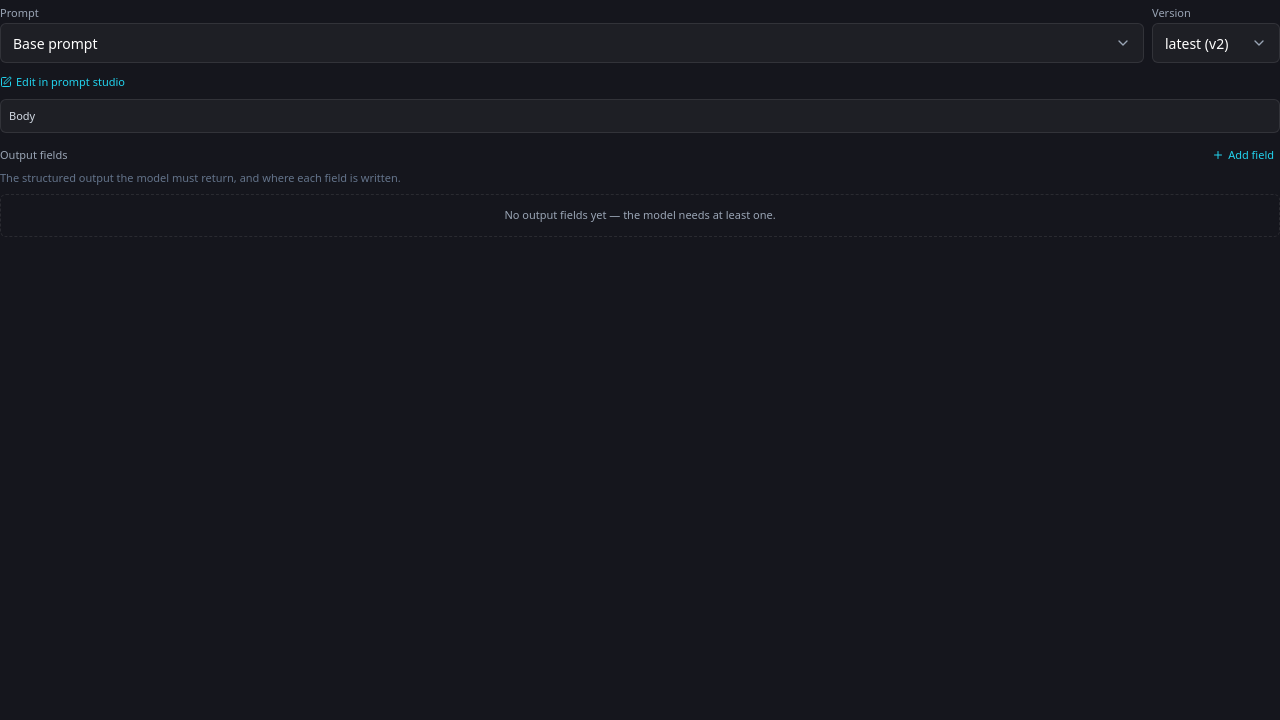
editing a node's prompt in the studio overlay › repoints the node at the fork instead of leaving it on the original
Click the button "Edit in prompt studio" at (62, 82), box [0,74,125,90]
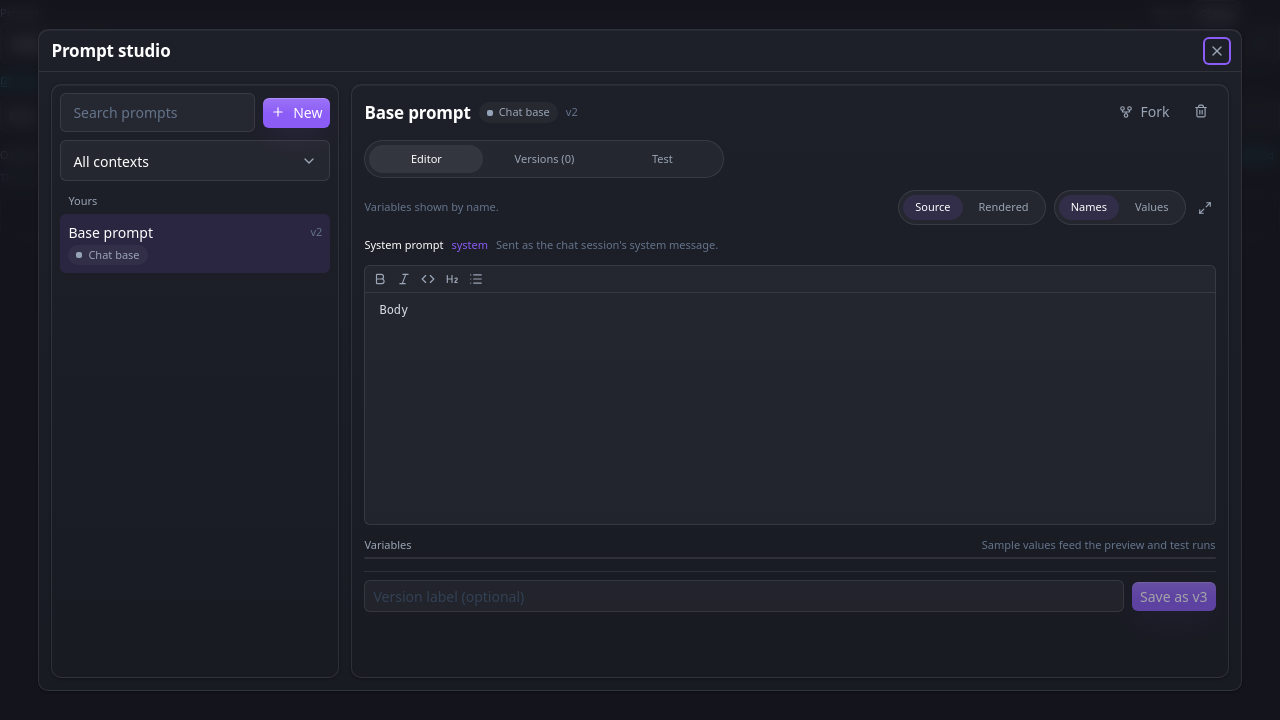
Expected: the dialog "Prompt studio" is shown
Click the button "Fork" at (1144, 113), box [1111,97,1178,128]
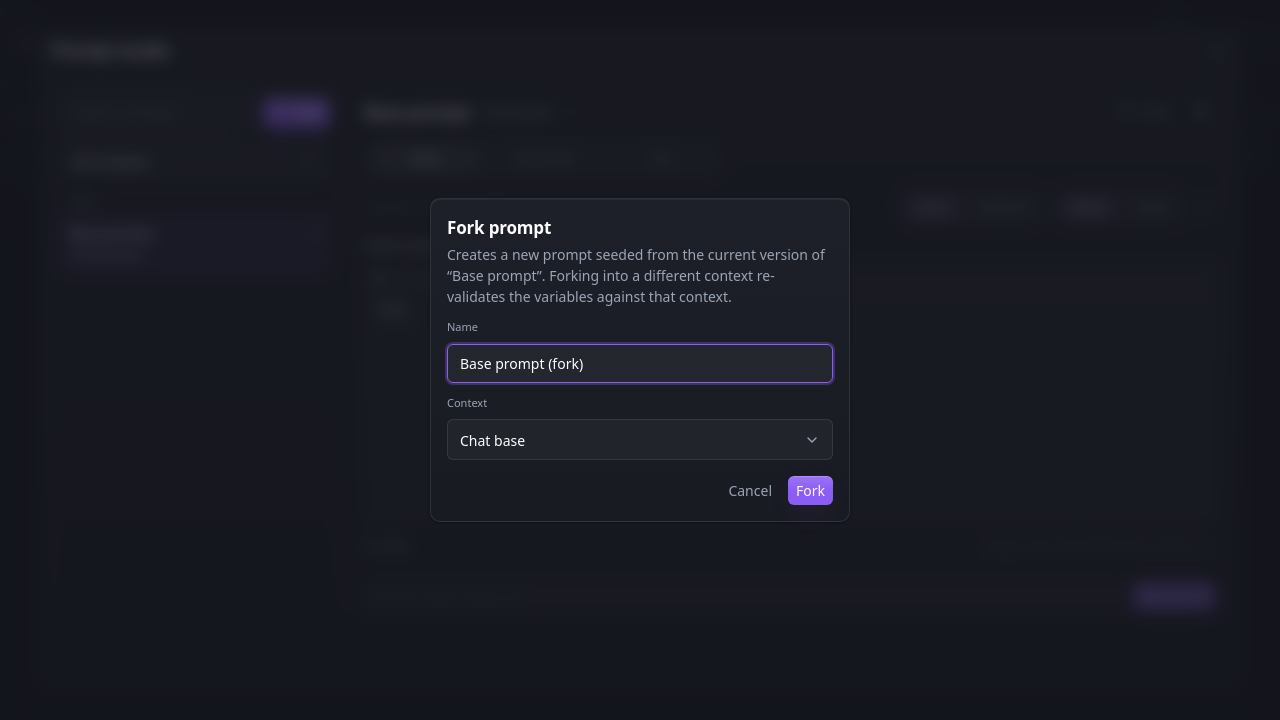
Click the button "Fork" at (810, 491), box [788,476,833,505]
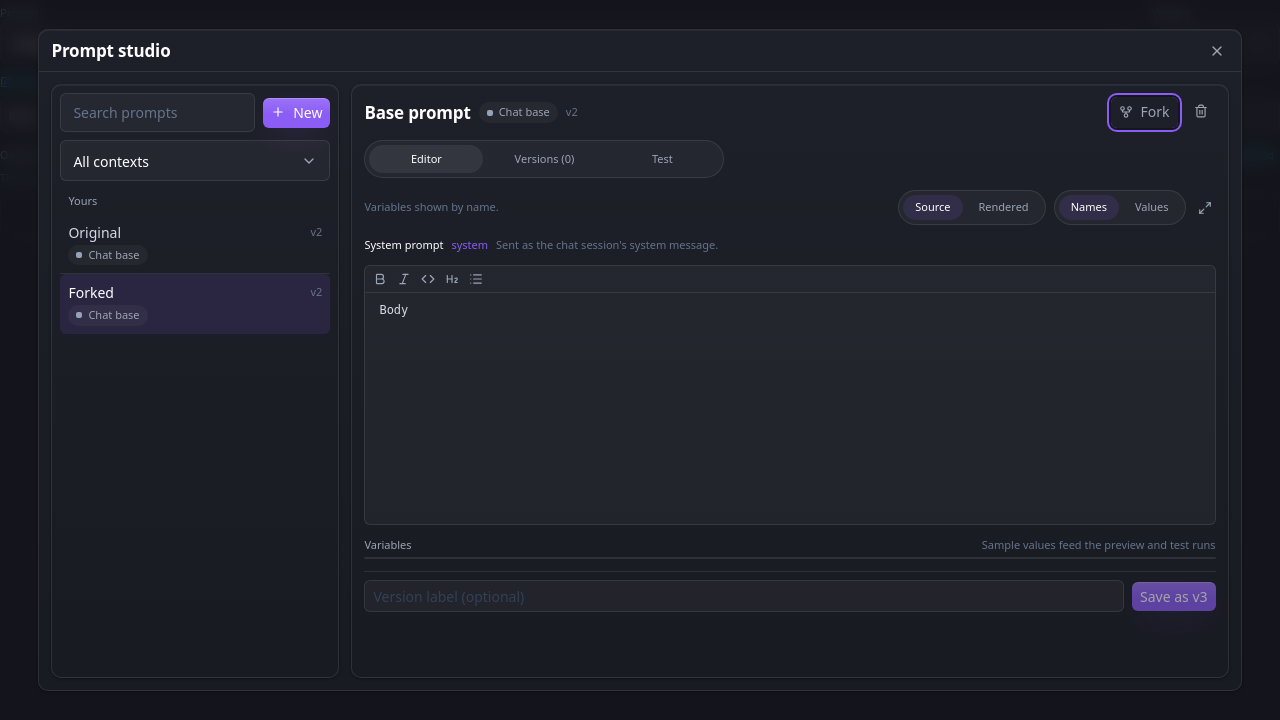
Expected: the dropdown named "Prompt" reads "Forked", [0,22,1144,63]
